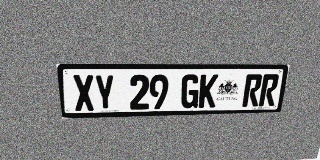2: (130, 75, 149, 110)
9: (149, 74, 169, 109)
G: (180, 74, 200, 108)
K: (198, 74, 218, 108)
R: (258, 74, 280, 106), (242, 74, 263, 107)
X: (72, 75, 95, 111)
Y: (94, 75, 115, 111)
